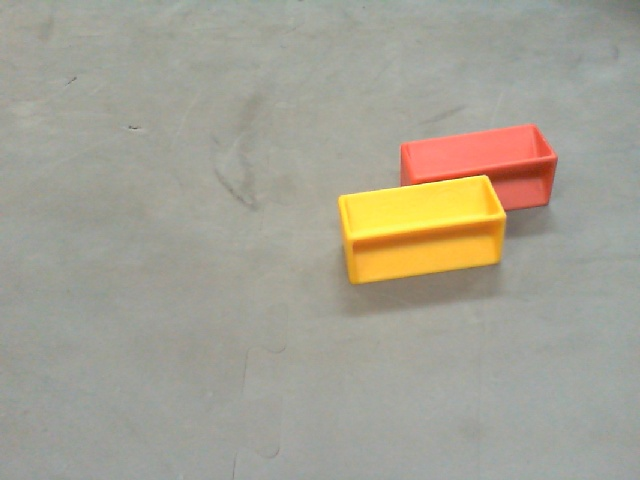RedSample: (396, 122, 554, 212)
YellowSample: (338, 172, 507, 283)
